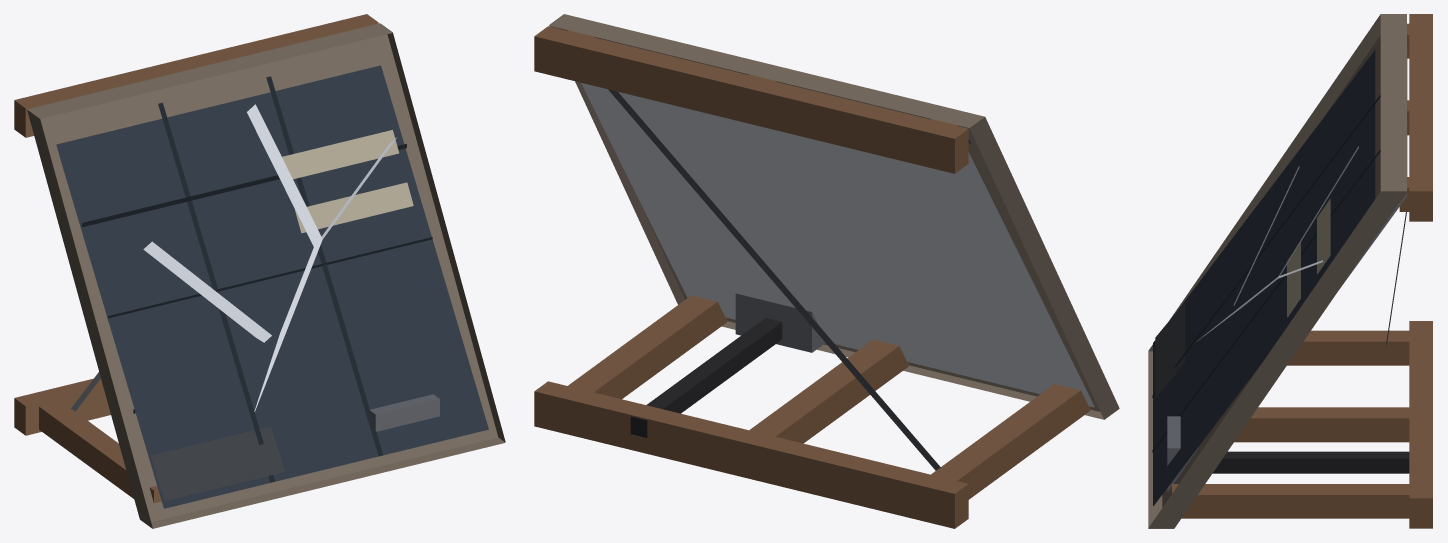
The model's file is array_ground_makeshift_cracked_S.obj.
3 views of the same model, side by side, from view 1: azimuth 30°, elevation 25°; view 2: azimuth 150°, elevation 25°; view 3: azimuth 270°, elevation 25° (orthographic). The views are drawn at different scales.
Visible parts, largest first — view 1: array_ground_makeshift_cracked_S; view 2: array_ground_makeshift_cracked_S; view 3: array_ground_makeshift_cracked_S.
Part boxes in pixels (left/top/right/bottom): array_ground_makeshift_cracked_S: left=14, top=14, right=505, bottom=528; array_ground_makeshift_cracked_S: left=534, top=14, right=1119, bottom=528; array_ground_makeshift_cracked_S: left=1148, top=14, right=1432, bottom=528.
Bounding box in the file's own units: 0.881 × 0.781 × 0.5989.
Materials: 1 (1 with a texture image).
